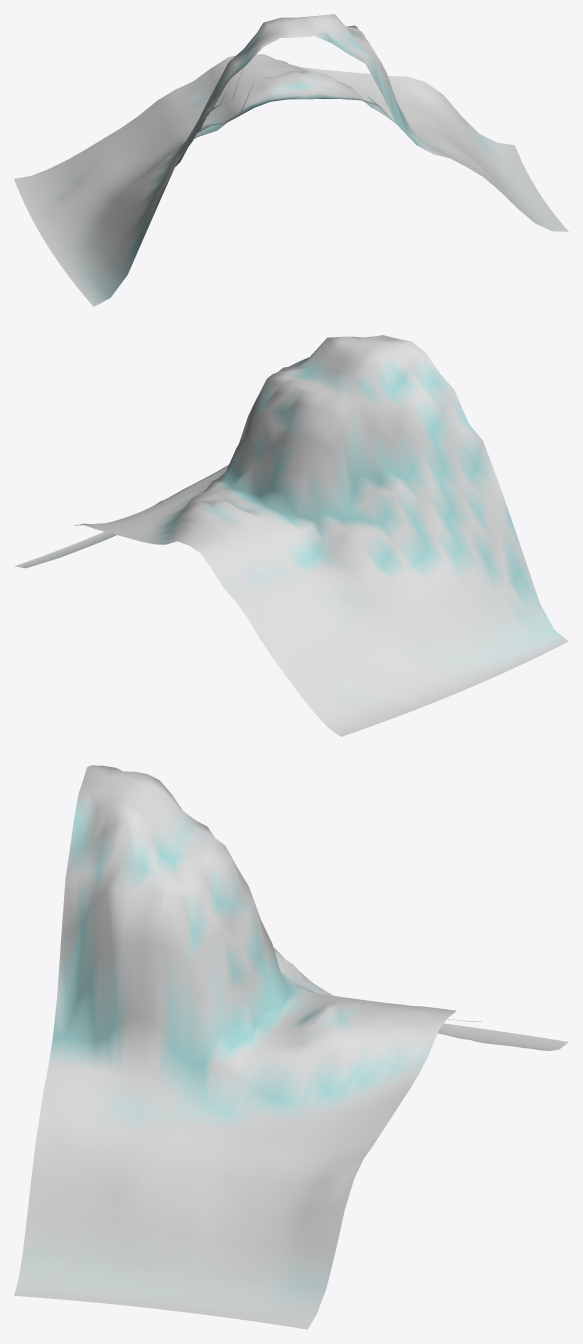
Rendered from middle_3.glb.
3 renders of one model, top to bottom at view 1: azimuth 30°, elevation 25°; view 2: azimuth 150°, elevation 25°; view 3: azimuth 270°, elevation 25°, orthographic. The views are drawn at different scales.
Parts seen in each view (by area): view 1: Mountain; view 2: Mountain; view 3: Mountain.
Part boxes in pixels (bbox=[...]): Mountain: bbox=[14, 14, 568, 306]; Mountain: bbox=[14, 335, 568, 736]; Mountain: bbox=[14, 765, 568, 1329].
Bounding box in the file's own units: 658 × 317 × 457.
